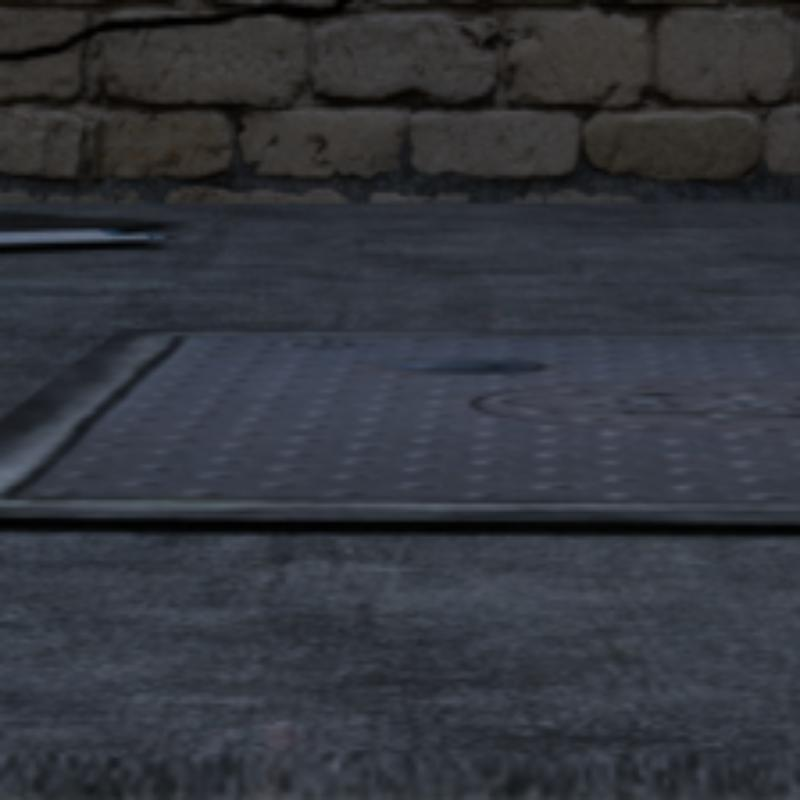pothole: (0, 0, 350, 57)
